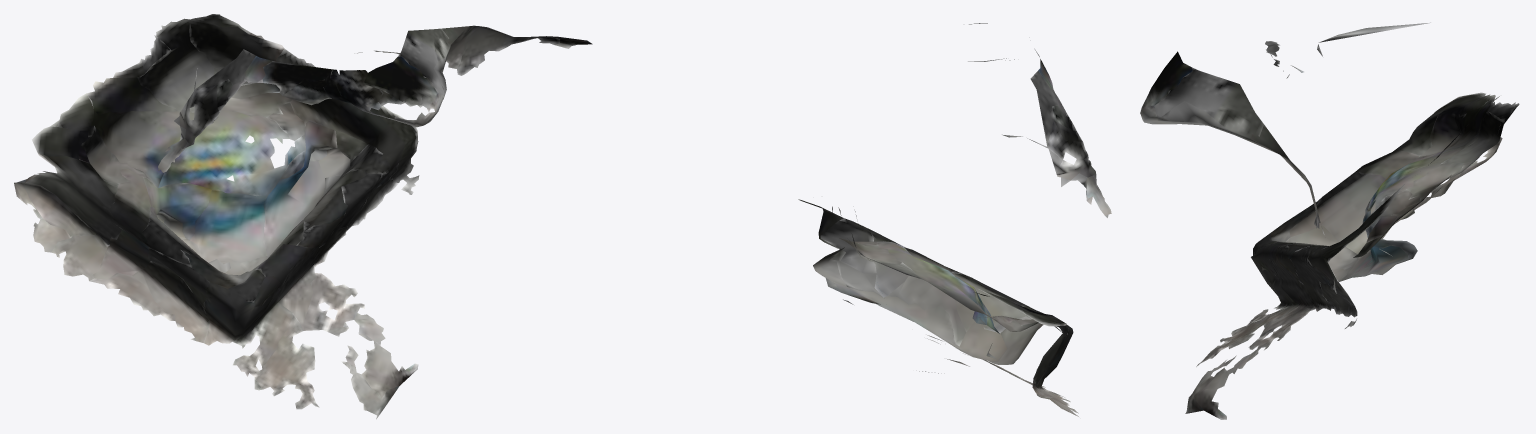
File: hall.glb
3 renders of one model, left to right at view 1: azimuth 30°, elevation 25°; view 2: azimuth 150°, elevation 25°; view 3: azimuth 270°, elevation 25°, orthographic. The views are drawn at different scales.
Size of the model in its own units: 1.09 by 0.7466 by 0.7193.
1 material, 1 textured.
